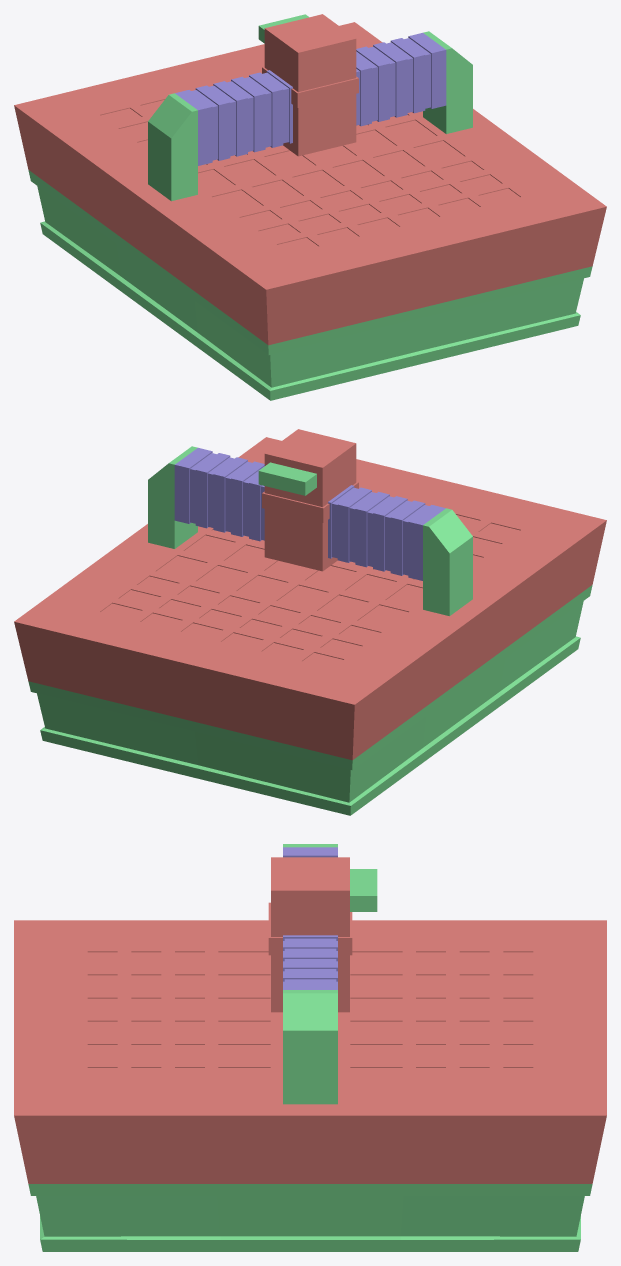
File: models.fbx_mashine_h.fbx
The picture shows the model from 3 angles, top to bottom: view 1: azimuth 30°, elevation 25°; view 2: azimuth 150°, elevation 25°; view 3: azimuth 270°, elevation 25°; orthographic projection. The views are drawn at different scales.
Parts seen in each view (by area): view 1: Cube.005, Cube.004, Cube.003; view 2: Cube.005, Cube.004, Cube.003; view 3: Cube.005, Cube.004, Cube.003.
Boxes of the visible parts, left/top/right/bottom form: Cube.005: left=14, top=22, right=606, bottom=400; Cube.004: left=148, top=31, right=472, bottom=201; Cube.003: left=258, top=14, right=358, bottom=156; Cube.005: left=14, top=437, right=606, bottom=815; Cube.004: left=148, top=446, right=472, bottom=616; Cube.003: left=258, top=429, right=358, bottom=571; Cube.005: left=14, top=920, right=606, bottom=1251; Cube.004: left=283, top=844, right=337, bottom=1104; Cube.003: left=268, top=857, right=377, bottom=1012.
Size of the model in its own units: 345 by 254 by 443.
